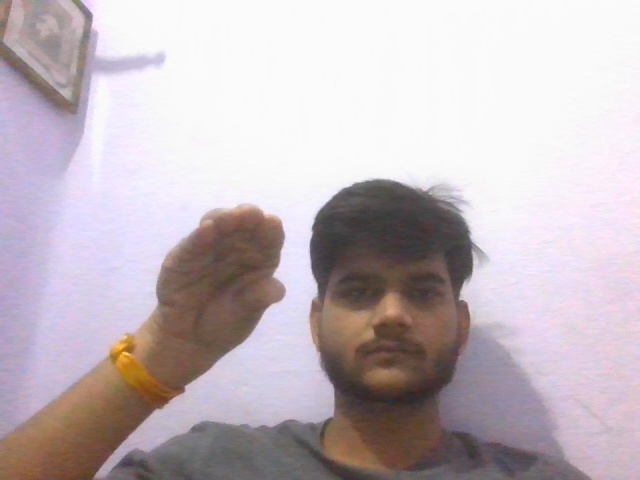sorry: (148, 200, 302, 350)
